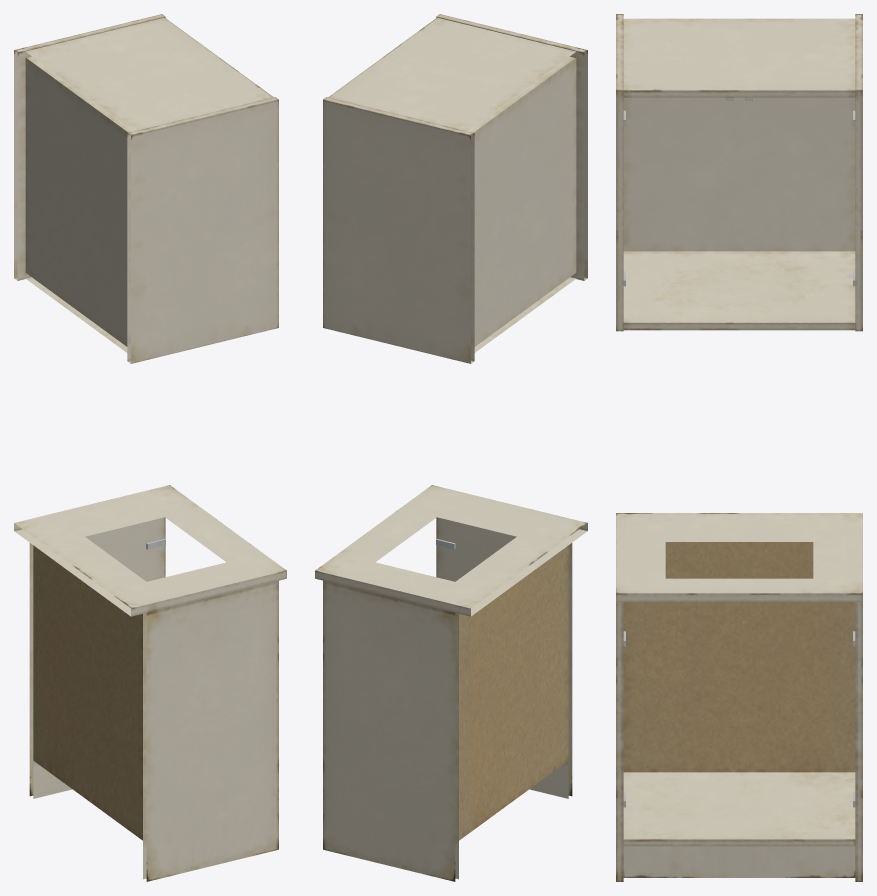
Rendered from FurnitureKicthen01.FBX.
The picture shows the model from 3 angles, left to right: view 1: azimuth 30°, elevation 25°; view 2: azimuth 150°, elevation 25°; view 3: azimuth 270°, elevation 25°; orthographic projection. The views are drawn at different scales.
Visible parts, largest first — view 1: FurnitureKicthen01; view 2: FurnitureKicthen01; view 3: FurnitureKicthen01.
Part boxes in pixels (x1=…): FurnitureKicthen01: x1=14, y1=14, x2=286, y2=881; FurnitureKicthen01: x1=315, y1=14, x2=587, y2=881; FurnitureKicthen01: x1=616, y1=14, x2=862, y2=881.
Size of the model in its own units: 50 by 65 by 230.
